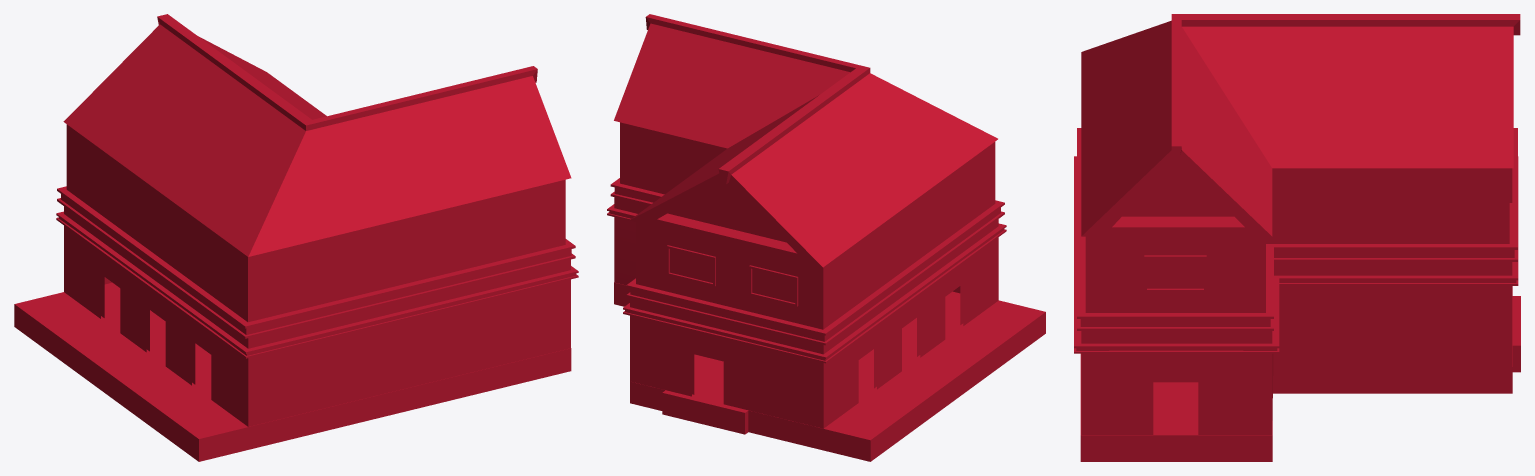
File: MeraTienda.fbx
3 views of the same model, side by side, from view 1: azimuth 30°, elevation 25°; view 2: azimuth 150°, elevation 25°; view 3: azimuth 270°, elevation 25° (orthographic). The views are drawn at different scales.
Parts seen in each view (by area): view 1: FinalTecho, Pared, TechoAfuera, Suelo; view 2: FinalTecho, TechoAfuera, Pared, Suelo; view 3: FinalTecho, Pared, TechoAfuera, Suelo.
Part boxes in pixels (bbox=[...]): FinalTecho: bbox=[63, 14, 571, 256]; Pared: bbox=[56, 206, 578, 426]; TechoAfuera: bbox=[57, 124, 575, 338]; Suelo: bbox=[14, 282, 571, 461]; FinalTecho: bbox=[614, 14, 997, 267]; TechoAfuera: bbox=[610, 122, 1004, 345]; Pared: bbox=[607, 197, 1006, 428]; Suelo: bbox=[614, 282, 1045, 461]; FinalTecho: bbox=[1081, 14, 1520, 236]; Pared: bbox=[1074, 156, 1518, 434]; TechoAfuera: bbox=[1077, 128, 1517, 330]; Suelo: bbox=[1080, 286, 1520, 461].
Size of the model in its own units: 1964 by 1353 by 1719.
